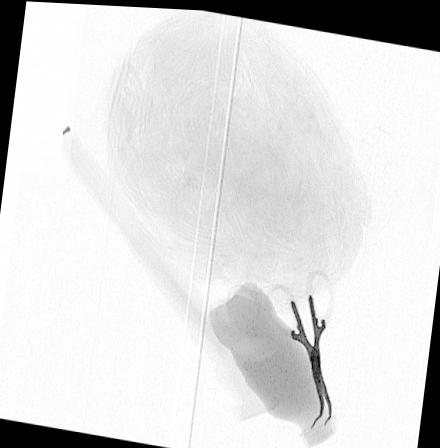Scissors: (260, 266, 335, 429)
